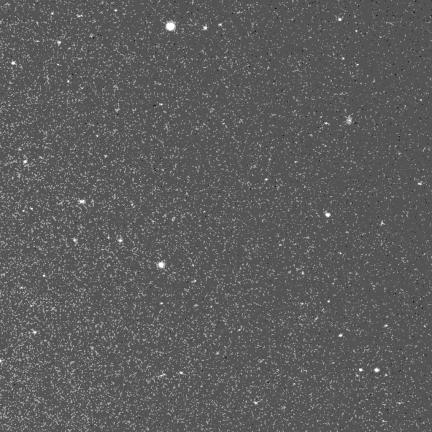blob: (166, 21, 175, 31), (158, 262, 164, 268), (79, 200, 86, 205), (118, 238, 124, 243), (325, 213, 331, 218), (23, 160, 28, 165), (374, 368, 379, 372), (11, 61, 16, 65), (384, 324, 389, 328), (57, 41, 61, 45), (179, 371, 183, 374), (203, 26, 207, 29), (338, 18, 342, 21), (359, 368, 363, 371), (339, 334, 342, 337)
